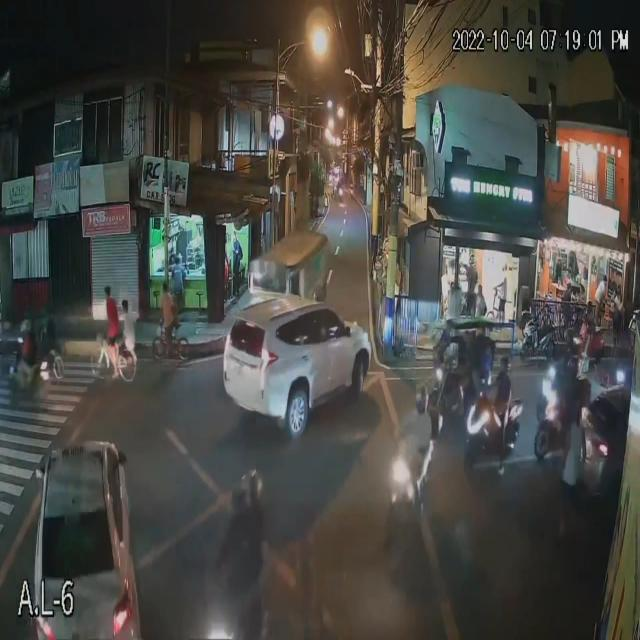Full-Faced: (414, 383, 429, 413), (497, 353, 513, 376)
